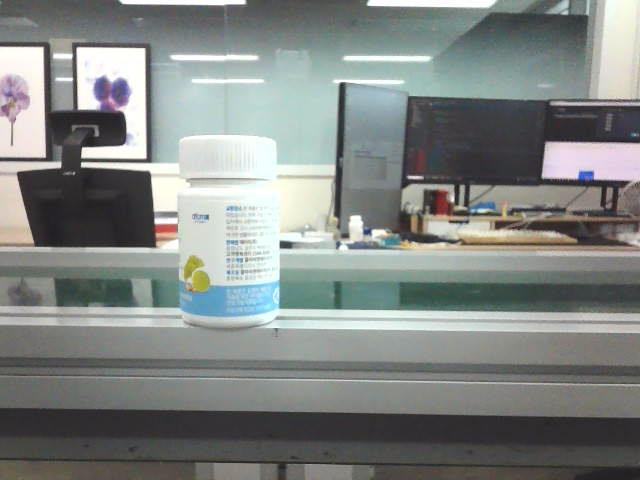labeled: (173, 130, 284, 336)
